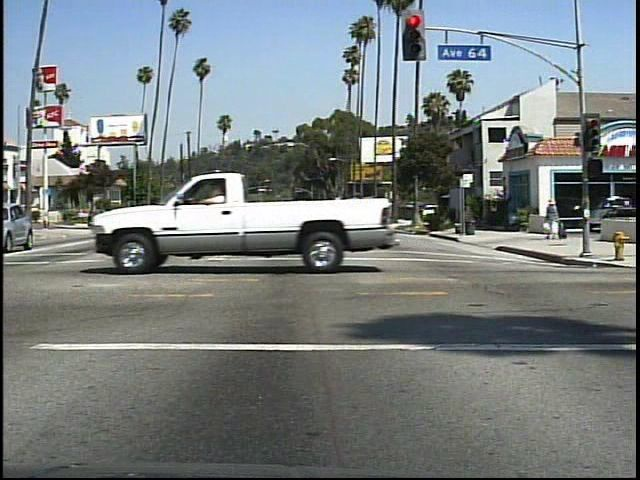person: (540, 194, 567, 246)
